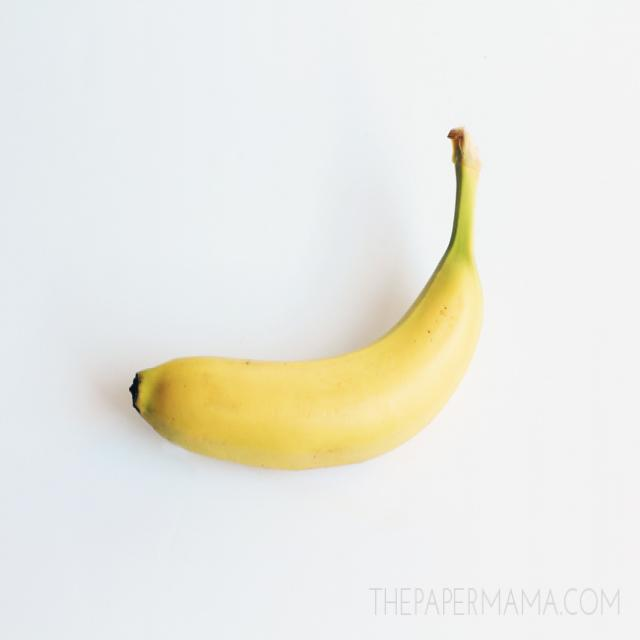Banana: (123, 127, 496, 470)
